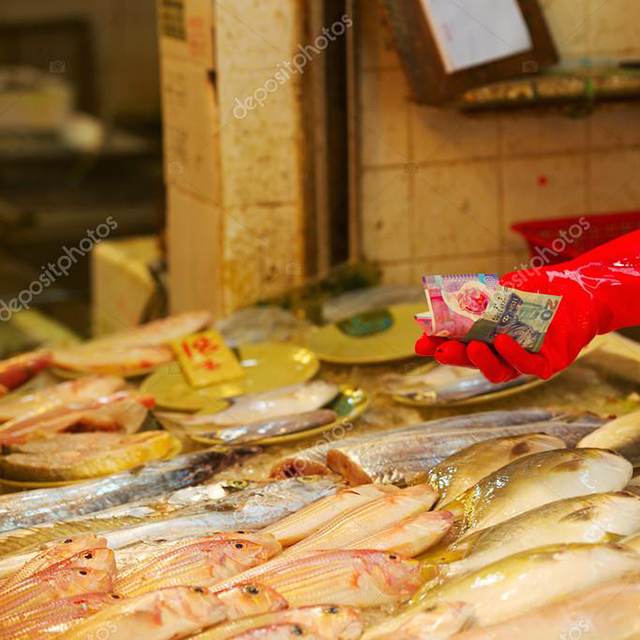banknotes: (466, 285, 563, 343), (412, 273, 493, 335)
